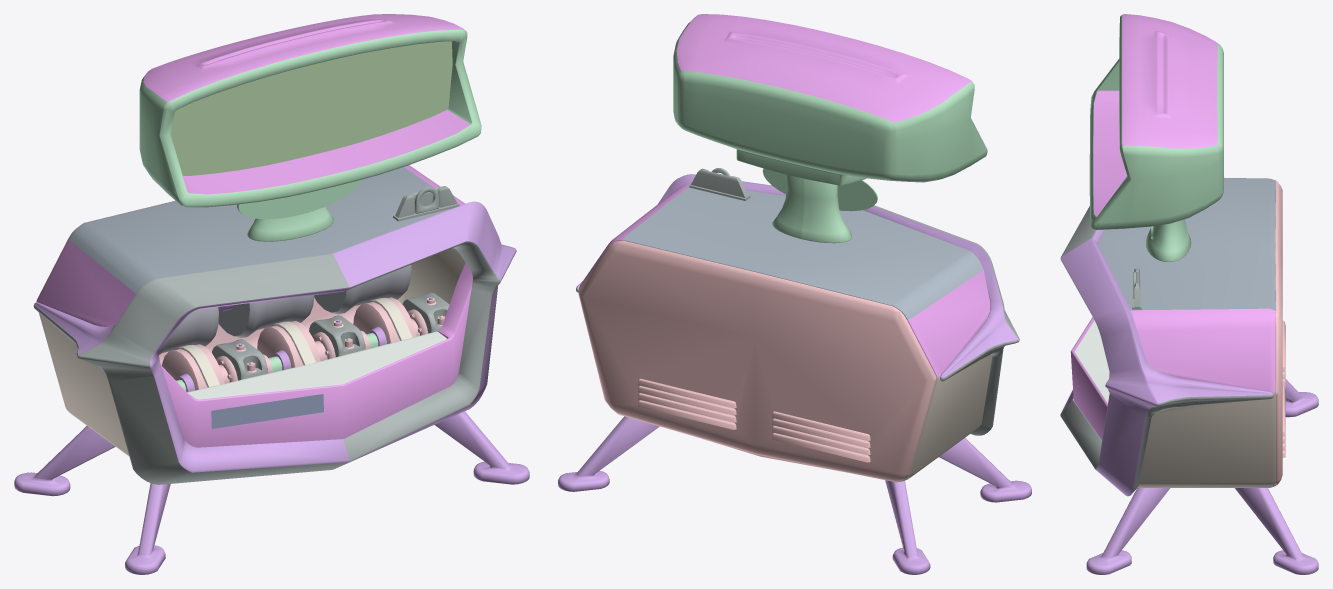
File: PaP Machine.fbx
The picture shows the model from 3 angles, left to right: view 1: azimuth 30°, elevation 25°; view 2: azimuth 150°, elevation 25°; view 3: azimuth 270°, elevation 25°; orthographic projection. The views are drawn at different scales.
Parts seen in each view (by area): view 1: mc_mtl_p7_packapunch_mc_mtl_p7_zm_vending_pap_front_side, mc_mtl_p7_packapunch_mc_mtl_p7_zm_vending_pap_frame_left, mc_mtl_p7_packapunch_mc_mtl_p7_zm_vending_pap_frame_right, mc_mtl_p7_packapunch_mc_mtl_p7_zm_vending_packapunch_sign, mc_mtl_p7_packapunch_mc_mtl_p7_zm_vending_pap_top_main, mc_mtl_p7_packapunch_mc_mtl_p7_zm_vending_pap_top, mc_mtl_p7_packapunch_mc_mtl_p7_zm_vending_packapunch, mc_mtl_p7_packapunch_mc_mtl_p7_zm_vending_pap_side_inside, mc_mtl_p7_packapunch_mc_mtl_p7_zm_vending_pap_roller, mc_mtl_p7_packapunch_mc_mtl_p7_zm_vending_pap_detail, mc_mtl_p7_packapunch_mc_mtl_p7_zm_vending_pap_logo, mc_mtl_p7_packapunch_mc_mtl_p7_zm_vending_pap_leather_scrol; view 2: mc_mtl_p7_packapunch_mc_mtl_p7_zm_vending_pap_bottom_back, mc_mtl_p7_packapunch_mc_mtl_p7_zm_vending_pap_top, mc_mtl_p7_packapunch_mc_mtl_p7_zm_vending_pap_front_side, mc_mtl_p7_packapunch_mc_mtl_p7_zm_vending_pap_top_main, mc_mtl_p7_packapunch_mc_mtl_p7_zm_vending_pap_frame_right, mc_mtl_p7_packapunch_mc_mtl_p7_zm_vending_pap_side_inside, mc_mtl_p7_packapunch_mc_mtl_p7_zm_vending_pap_frame_left; view 3: mc_mtl_p7_packapunch_mc_mtl_p7_zm_vending_pap_front_side, mc_mtl_p7_packapunch_mc_mtl_p7_zm_vending_pap_frame_right, mc_mtl_p7_packapunch_mc_mtl_p7_zm_vending_pap_top_main, mc_mtl_p7_packapunch_mc_mtl_p7_zm_vending_pap_top, mc_mtl_p7_packapunch_mc_mtl_p7_zm_vending_pap_side_inside, mc_mtl_p7_packapunch_mc_mtl_p7_zm_vending_pap_frame_left, mc_mtl_p7_packapunch_mc_mtl_p7_zm_vending_pap_bottom_back, mc_mtl_p7_packapunch_mc_mtl_p7_zm_vending_pap_detail.
Boxes of the visible parts, x1,y1,x2,y2 form: mc_mtl_p7_packapunch_mc_mtl_p7_zm_vending_pap_front_side: [37, 14, 472, 447]; mc_mtl_p7_packapunch_mc_mtl_p7_zm_vending_pap_frame_left: [33, 186, 500, 484]; mc_mtl_p7_packapunch_mc_mtl_p7_zm_vending_pap_frame_right: [14, 201, 529, 574]; mc_mtl_p7_packapunch_mc_mtl_p7_zm_vending_packapunch_sign: [170, 41, 452, 175]; mc_mtl_p7_packapunch_mc_mtl_p7_zm_vending_pap_top_main: [69, 167, 453, 293]; mc_mtl_p7_packapunch_mc_mtl_p7_zm_vending_pap_top: [139, 29, 481, 390]; mc_mtl_p7_packapunch_mc_mtl_p7_zm_vending_packapunch: [159, 297, 445, 390]; mc_mtl_p7_packapunch_mc_mtl_p7_zm_vending_pap_side_inside: [38, 248, 465, 456]; mc_mtl_p7_packapunch_mc_mtl_p7_zm_vending_pap_roller: [159, 265, 411, 354]; mc_mtl_p7_packapunch_mc_mtl_p7_zm_vending_pap_detail: [187, 331, 447, 399]; mc_mtl_p7_packapunch_mc_mtl_p7_zm_vending_pap_logo: [211, 394, 323, 428]; mc_mtl_p7_packapunch_mc_mtl_p7_zm_vending_pap_leather_scrol: [175, 298, 412, 387]; mc_mtl_p7_packapunch_mc_mtl_p7_zm_vending_pap_bottom_back: [578, 240, 936, 482]; mc_mtl_p7_packapunch_mc_mtl_p7_zm_vending_pap_top: [673, 17, 987, 243]; mc_mtl_p7_packapunch_mc_mtl_p7_zm_vending_pap_front_side: [579, 14, 990, 378]; mc_mtl_p7_packapunch_mc_mtl_p7_zm_vending_pap_top_main: [622, 174, 983, 319]; mc_mtl_p7_packapunch_mc_mtl_p7_zm_vending_pap_frame_right: [558, 174, 1031, 574]; mc_mtl_p7_packapunch_mc_mtl_p7_zm_vending_pap_side_inside: [901, 354, 992, 480]; mc_mtl_p7_packapunch_mc_mtl_p7_zm_vending_pap_frame_left: [576, 168, 1019, 435]; mc_mtl_p7_packapunch_mc_mtl_p7_zm_vending_pap_front_side: [1070, 14, 1275, 439]; mc_mtl_p7_packapunch_mc_mtl_p7_zm_vending_pap_frame_right: [1060, 229, 1318, 574]; mc_mtl_p7_packapunch_mc_mtl_p7_zm_vending_pap_top_main: [1093, 177, 1275, 310]; mc_mtl_p7_packapunch_mc_mtl_p7_zm_vending_pap_top: [1089, 15, 1223, 261]; mc_mtl_p7_packapunch_mc_mtl_p7_zm_vending_pap_side_inside: [1137, 392, 1275, 487]; mc_mtl_p7_packapunch_mc_mtl_p7_zm_vending_pap_frame_left: [1060, 206, 1273, 493]; mc_mtl_p7_packapunch_mc_mtl_p7_zm_vending_pap_bottom_back: [1275, 180, 1285, 485]; mc_mtl_p7_packapunch_mc_mtl_p7_zm_vending_pap_detail: [1074, 320, 1109, 402].
Bounding box in the file's own units: 8553 × 8644 × 4812.
